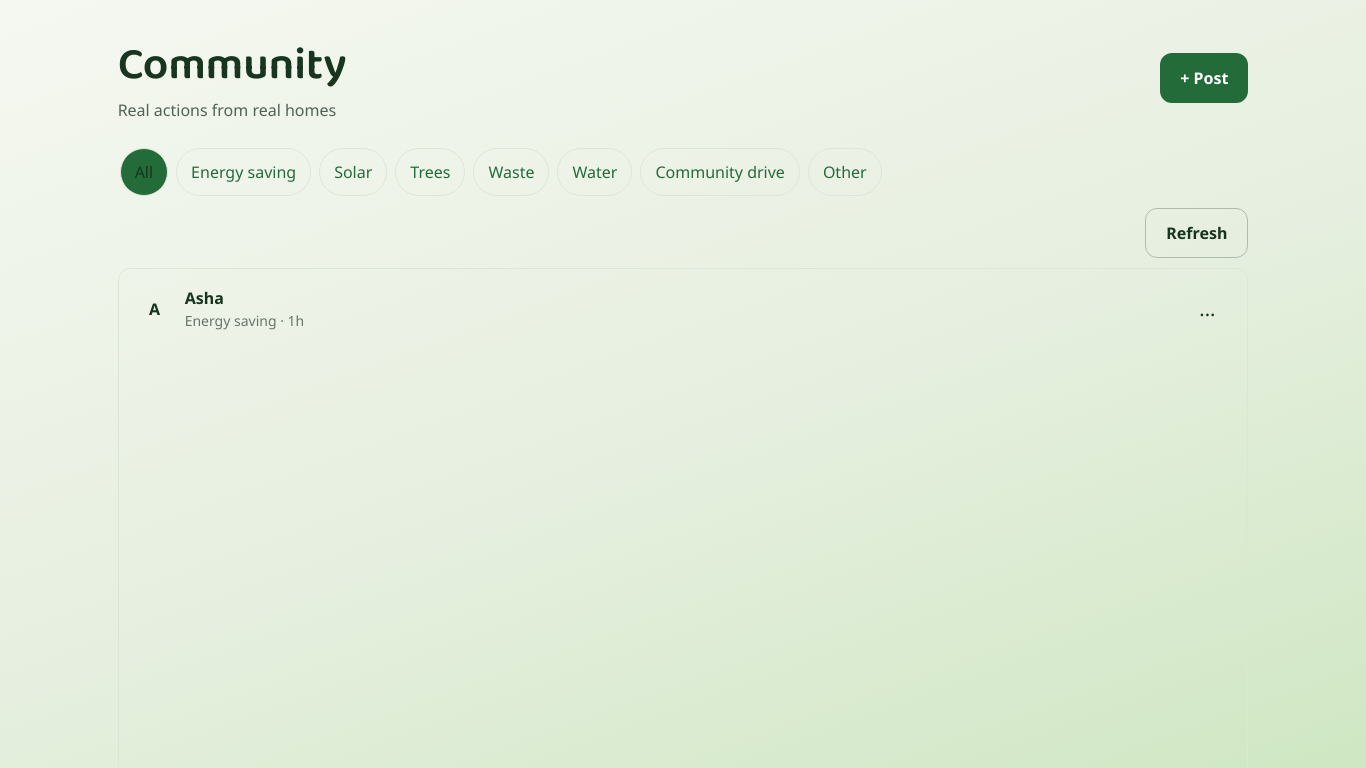
Test: Community feed › filters by tag
expect the text "Asha" is shown: met, box x1=185 y1=287 x2=224 y2=309
Click the button "Trees" at (430, 172), box x1=395 y1=148 x2=465 y2=196
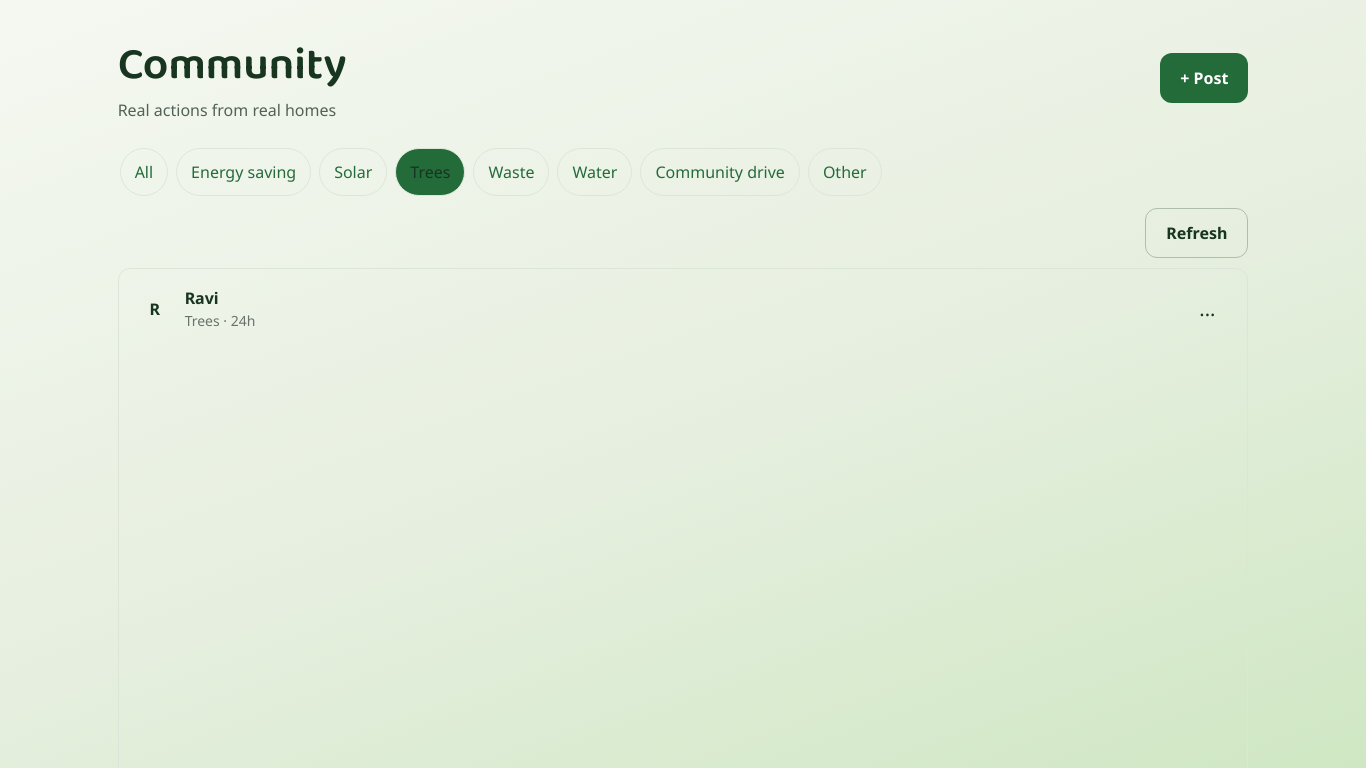
expect the text "Ravi" is shown: met, box x1=185 y1=287 x2=219 y2=309
expect the text "Asha" is gone: met
